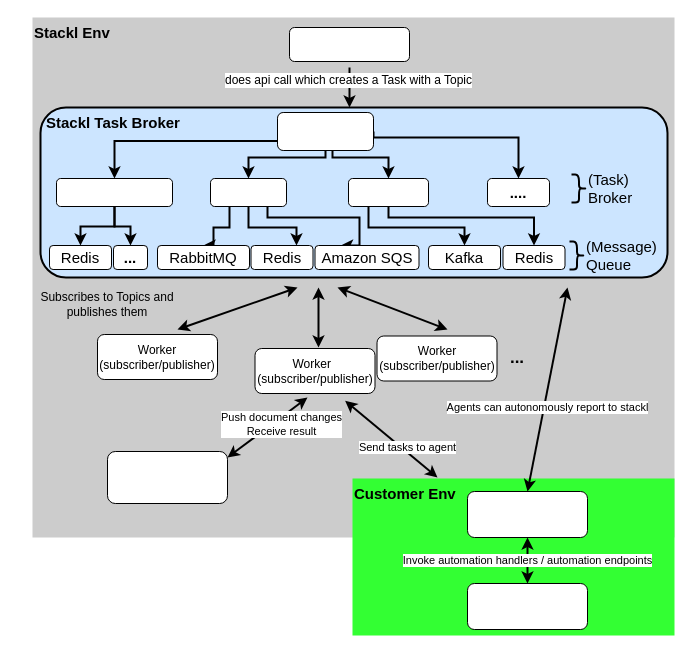
This 691x652 diagram has some shape labels left out. The shapes that lost their labels are listed below. From the top down, each one's centre as x and y in pixels, then its label:
[349,44]: Rest API
[325,131]: Task Broker Interface
[114,192]: Custom Broker
[248,192]: Celery
[388,192]: Faust
[167,477]: Datastore
[527,514]: Agent
[527,606]: Automation Handler
